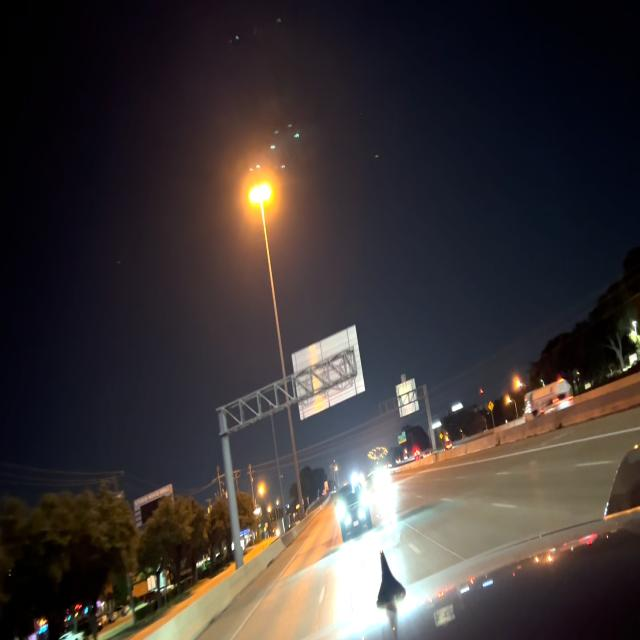back-of-sign: (290, 326, 367, 419), (395, 372, 419, 418)
